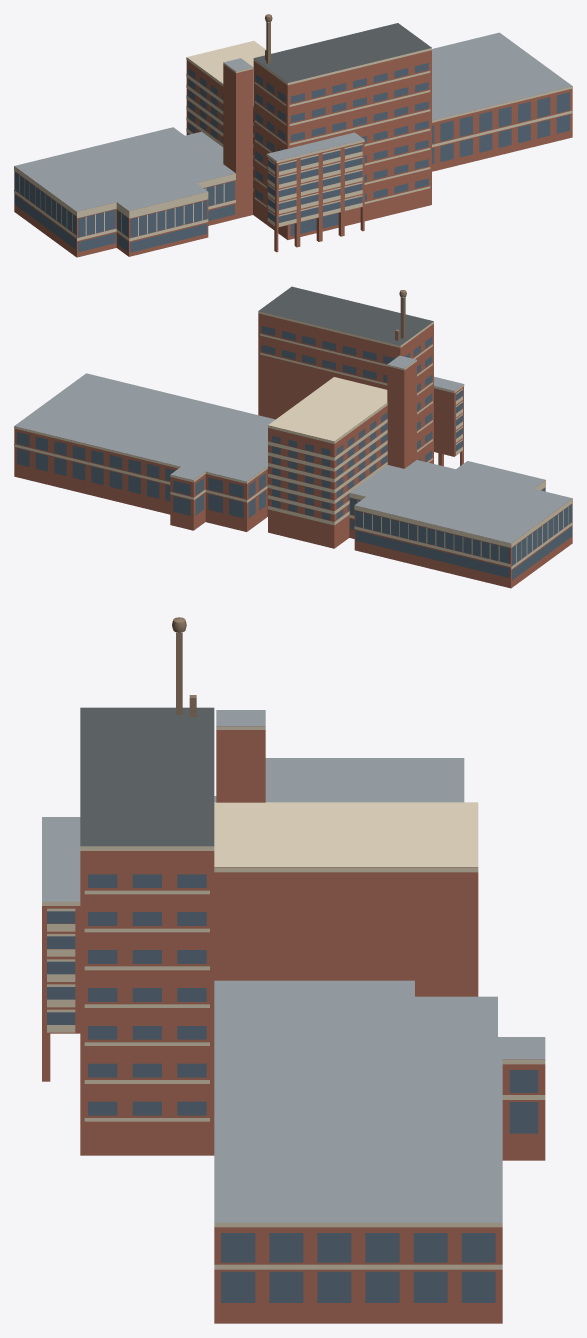
The model's file is ral-dh-hill-library.glb.
3 views of the same model, one above another, from view 1: azimuth 30°, elevation 25°; view 2: azimuth 150°, elevation 25°; view 3: azimuth 270°, elevation 25° (orthographic). The views are drawn at different scales.
Visible parts, largest first — view 1: D. H. Hill Library; view 2: D. H. Hill Library; view 3: D. H. Hill Library.
Part boxes in pixels (box(x1,y1,x2,y2)): D. H. Hill Library: box(14, 14, 572, 257); D. H. Hill Library: box(14, 286, 572, 588); D. H. Hill Library: box(42, 617, 545, 1323).
Bounding box in the file's own units: 162 × 64 × 72.36.
